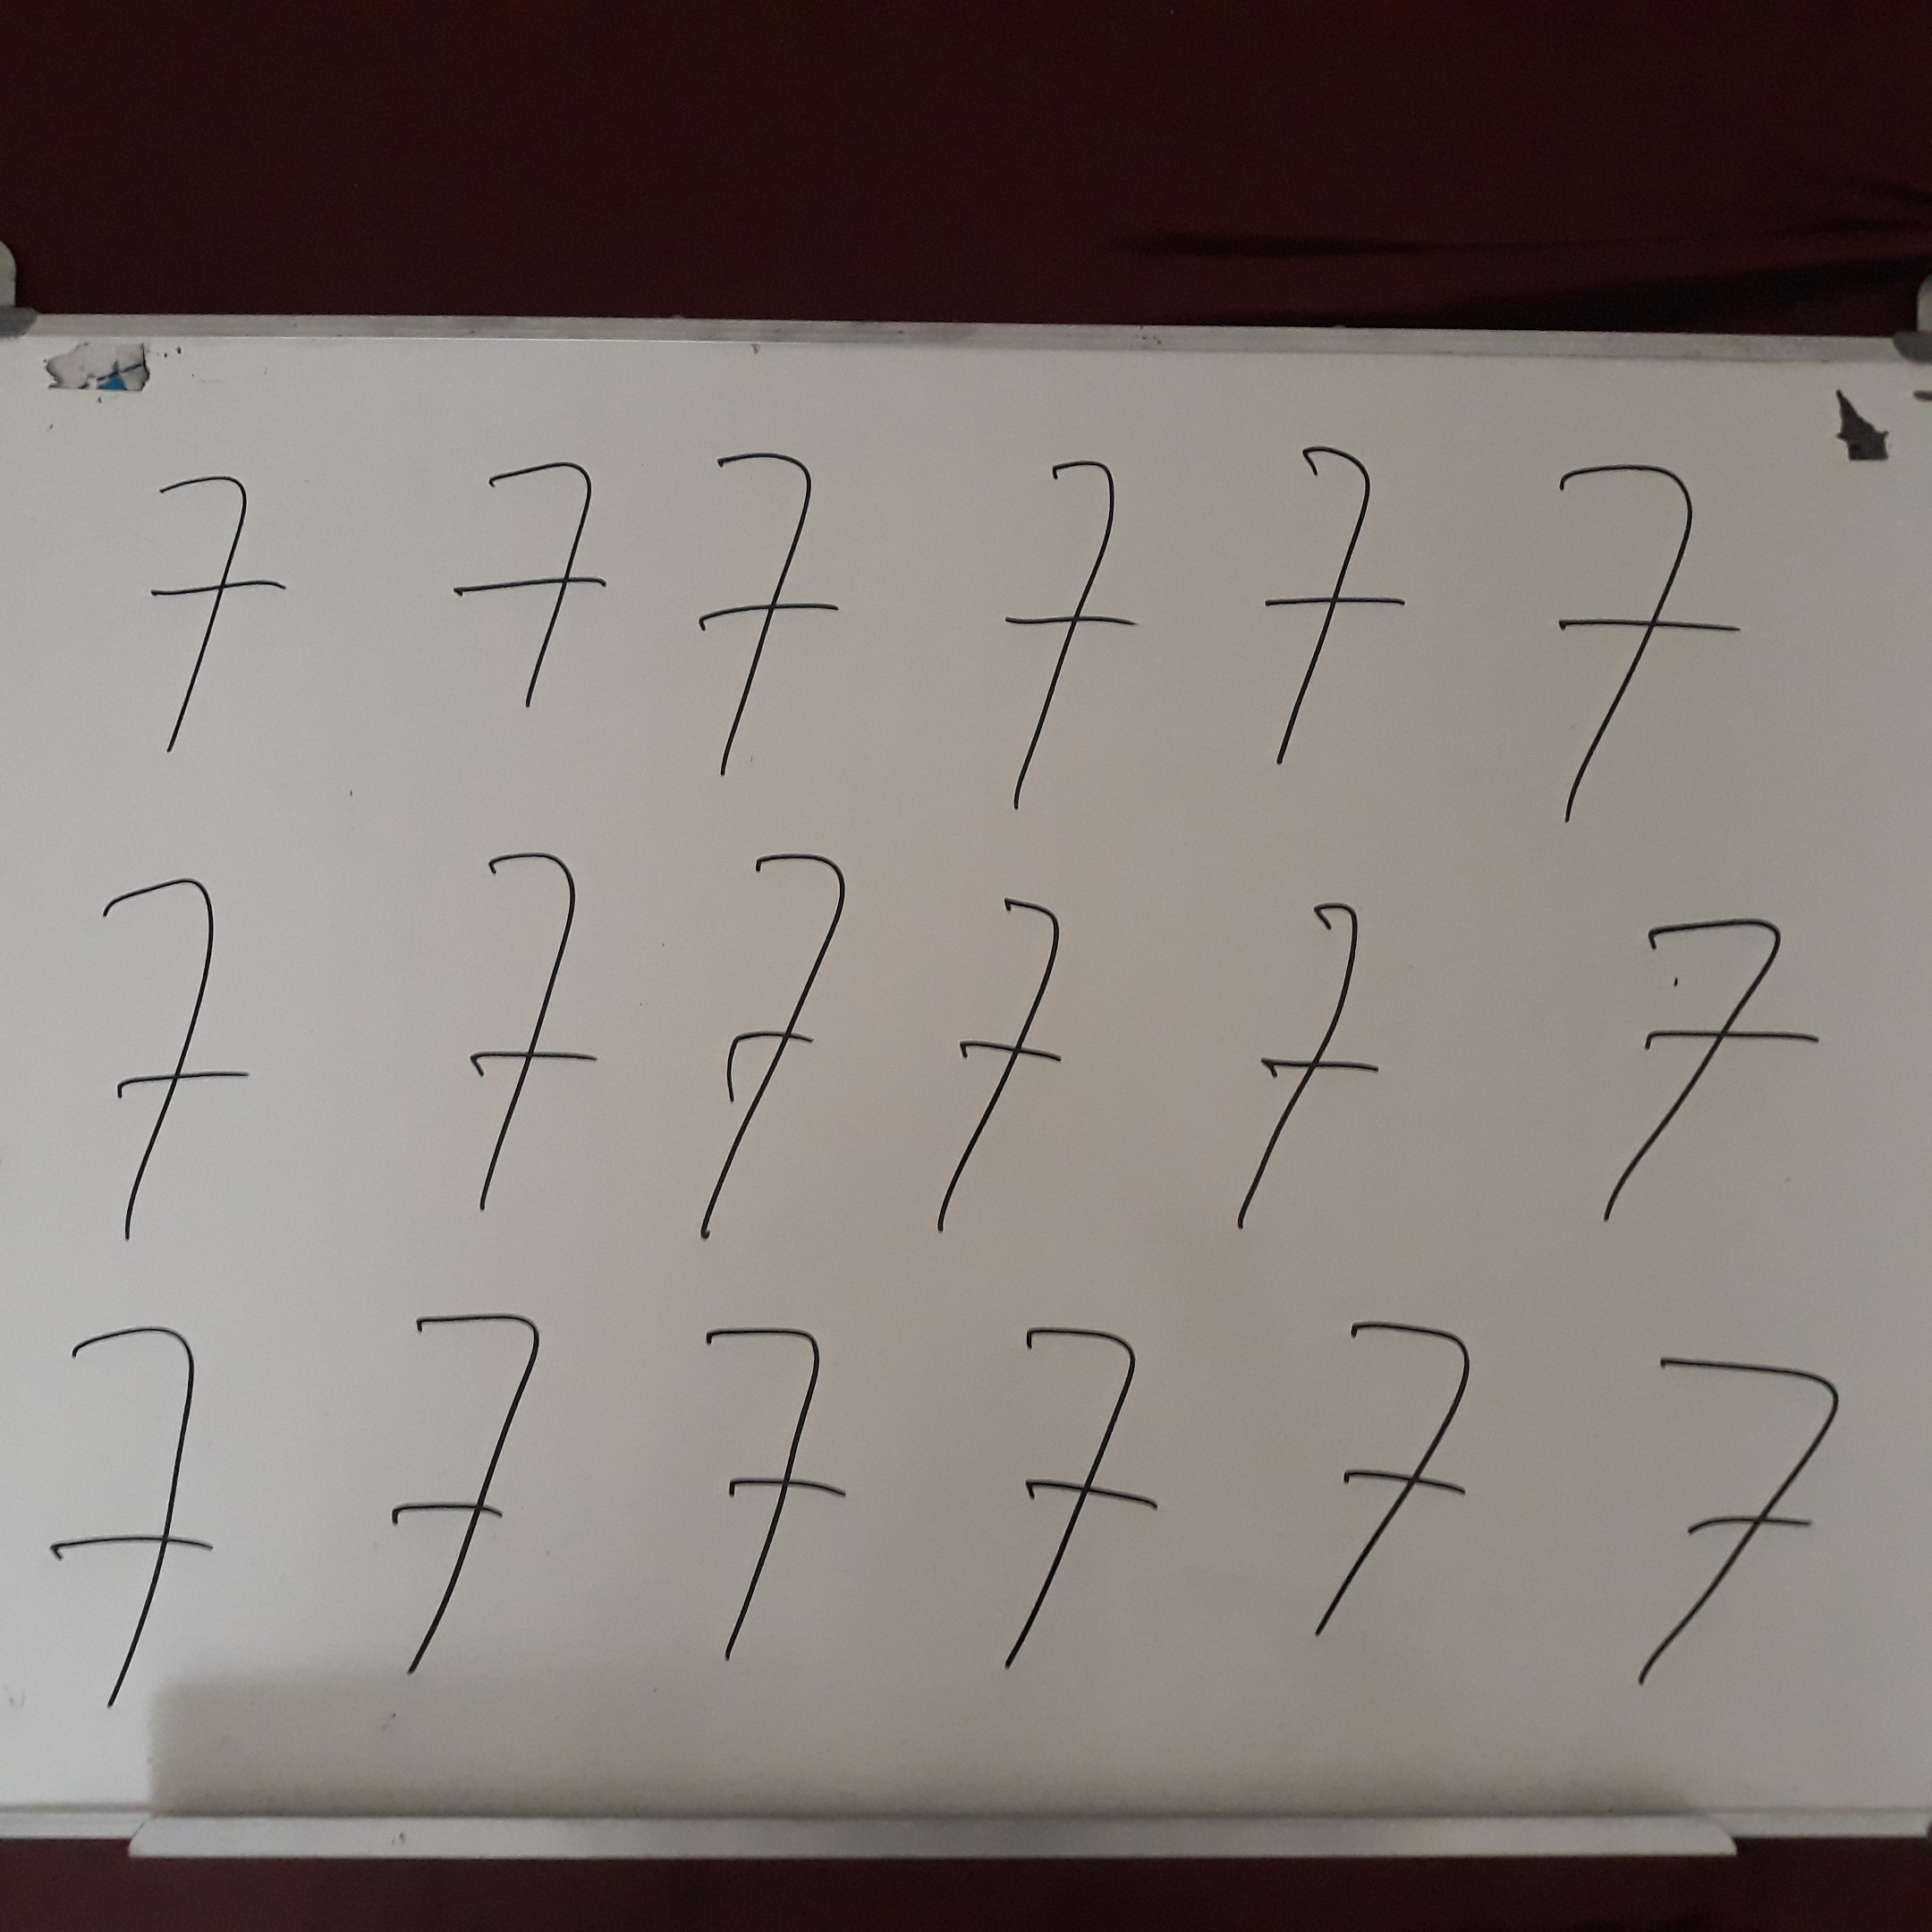num7: (1516, 441, 1758, 854), (1616, 1331, 1859, 1707), (1557, 914, 1836, 1238), (957, 439, 1177, 843), (40, 1320, 249, 1736), (68, 852, 273, 1275), (680, 849, 877, 1260), (370, 1296, 565, 1699), (1225, 431, 1434, 809), (976, 1309, 1174, 1689), (441, 834, 622, 1241), (1212, 886, 1410, 1257), (1291, 1309, 1494, 1671), (916, 882, 1106, 1250), (674, 1317, 866, 1678), (689, 439, 860, 808), (429, 452, 640, 735), (133, 467, 309, 768)
